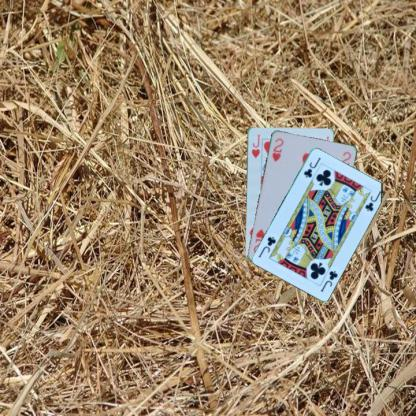2h: (270, 136, 284, 162)
Jc: (301, 154, 322, 179), (318, 268, 339, 293)
Jh: (249, 132, 261, 159)
